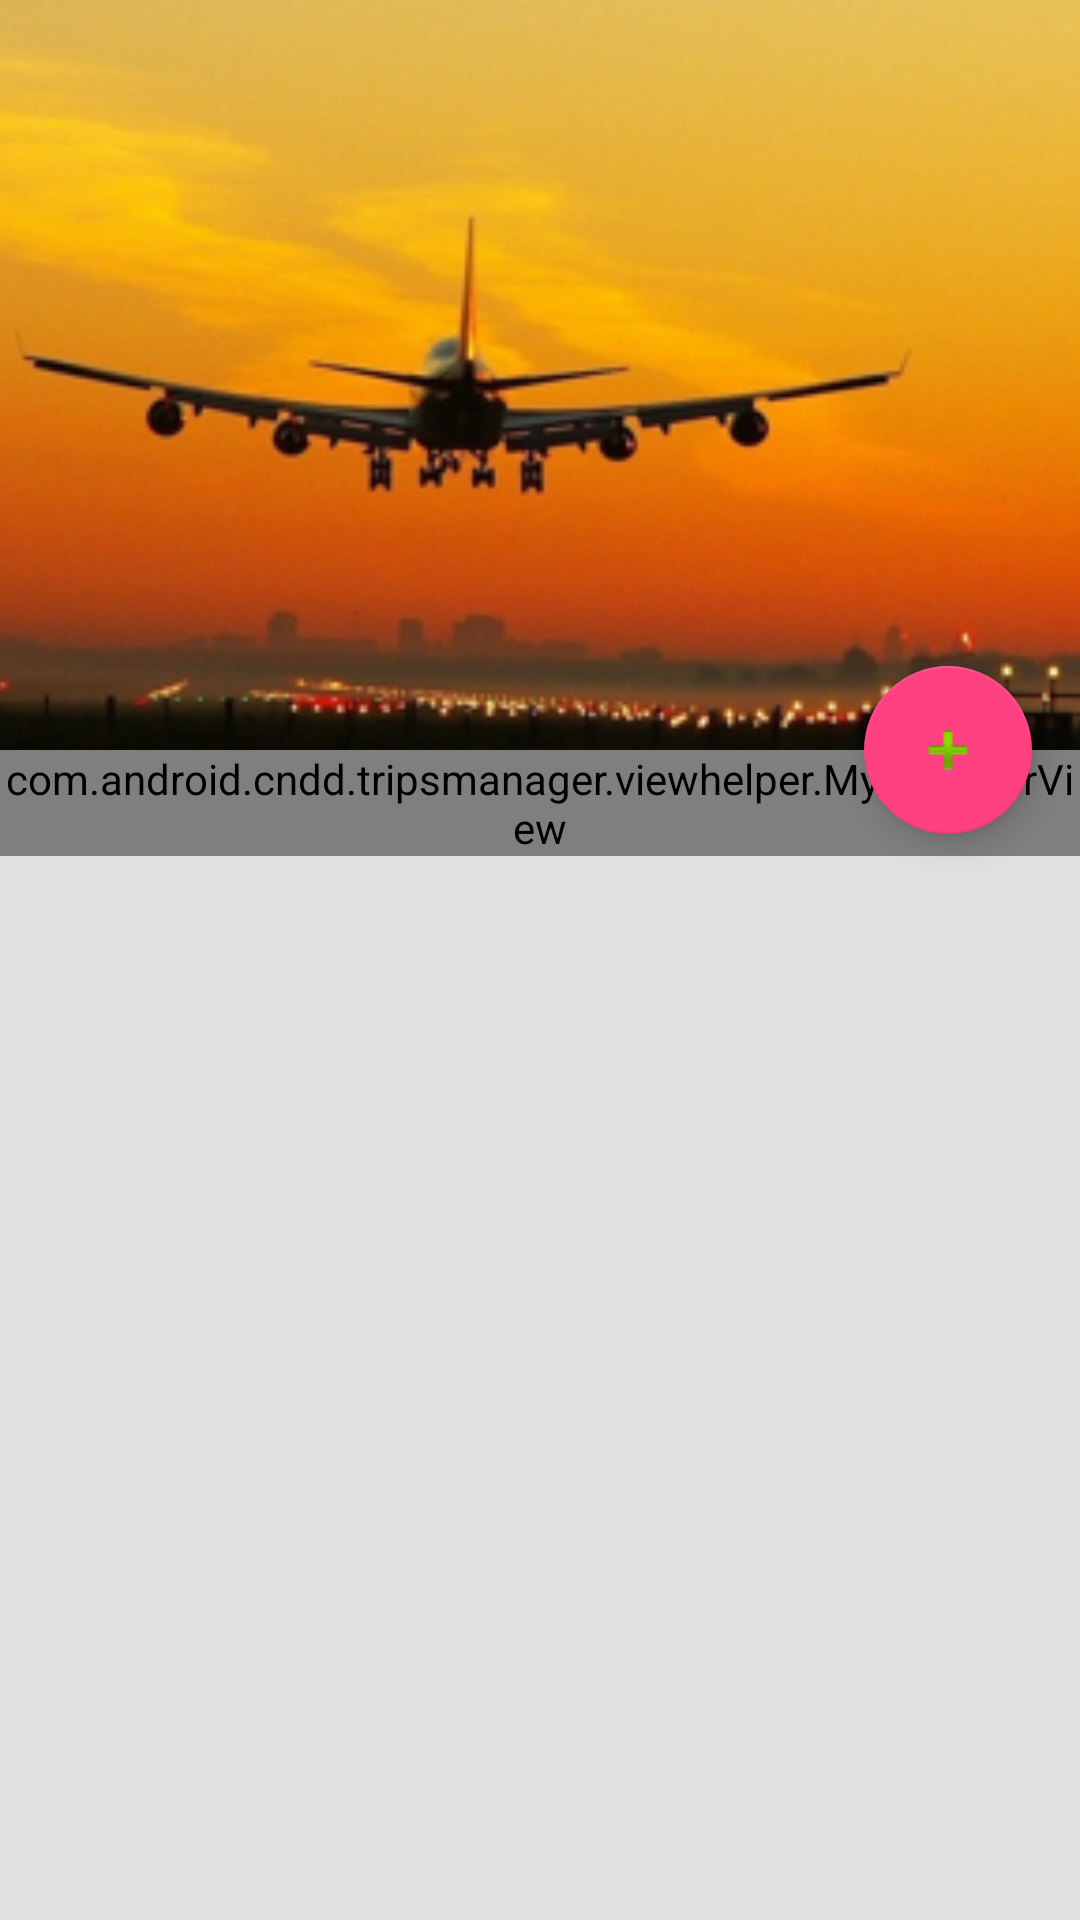

Icon click points for this 1080px×1920px phone screenshot, format point (x, y):
add: point (948, 750)
